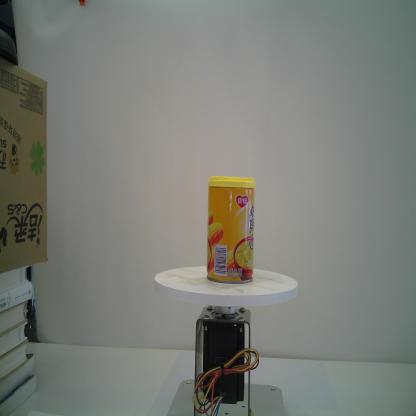Canned Food: (204, 174, 258, 286)
